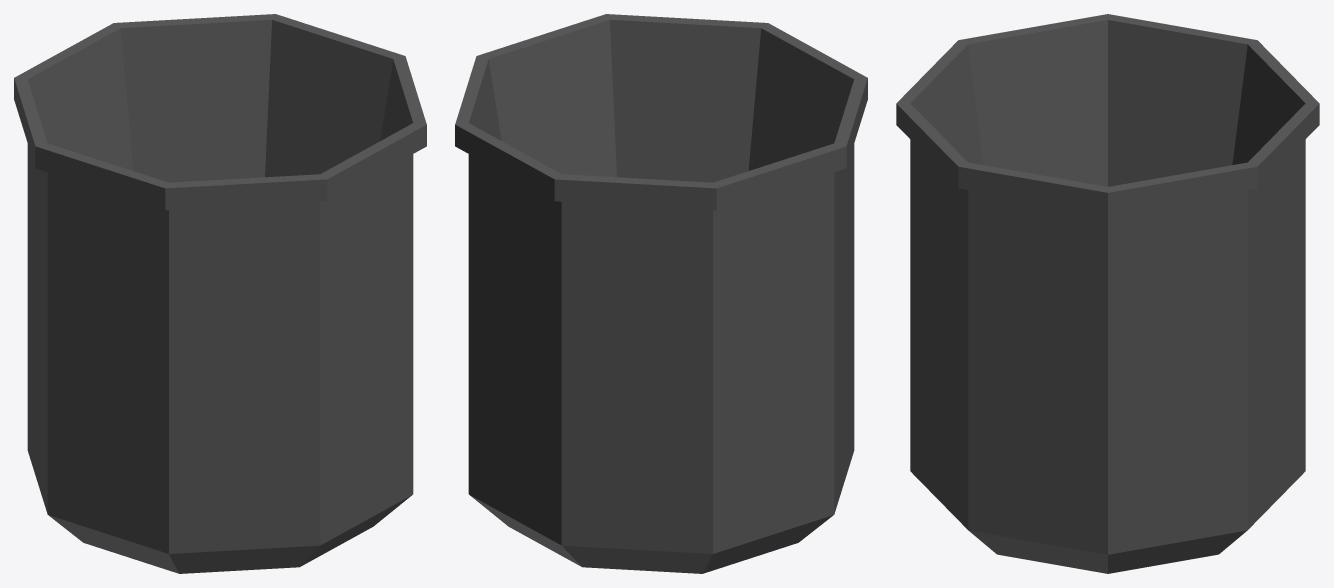
The model's file is TrashCan.fbx.
3 views of the same model, side by side, from view 1: azimuth 30°, elevation 25°; view 2: azimuth 150°, elevation 25°; view 3: azimuth 270°, elevation 25° (orthographic).
Parts seen in each view (by area): view 1: Trash_Can; view 2: Trash_Can; view 3: Trash_Can.
Boxes of the visible parts, x1,y1,x2,y2 form: Trash_Can: (14, 14, 426, 573); Trash_Can: (455, 14, 867, 573); Trash_Can: (896, 14, 1319, 573).
Size of the model in its own units: 32.68 by 34.44 by 32.68.
